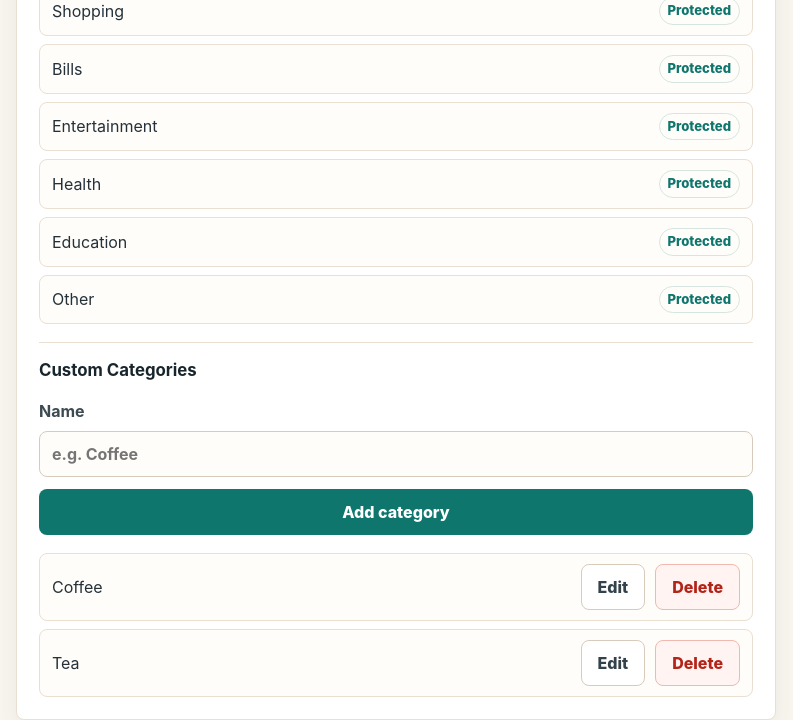
Test case: Home shell › maps duplicate custom category rename feedback without closing edit mode
(page scrolled)
Click the button "Edit" in the row of "Coffee". click: x=613, y=587
box: [580, 564, 645, 610]
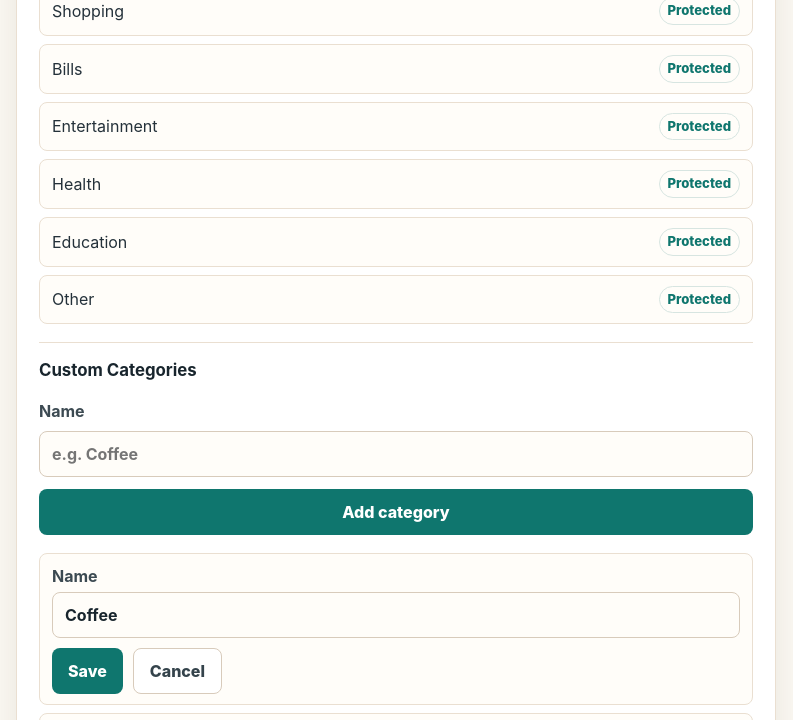
Replace the text in the 2nd field showing "Coffee" with "Tea". click: x=396, y=615
box: [52, 592, 740, 638]
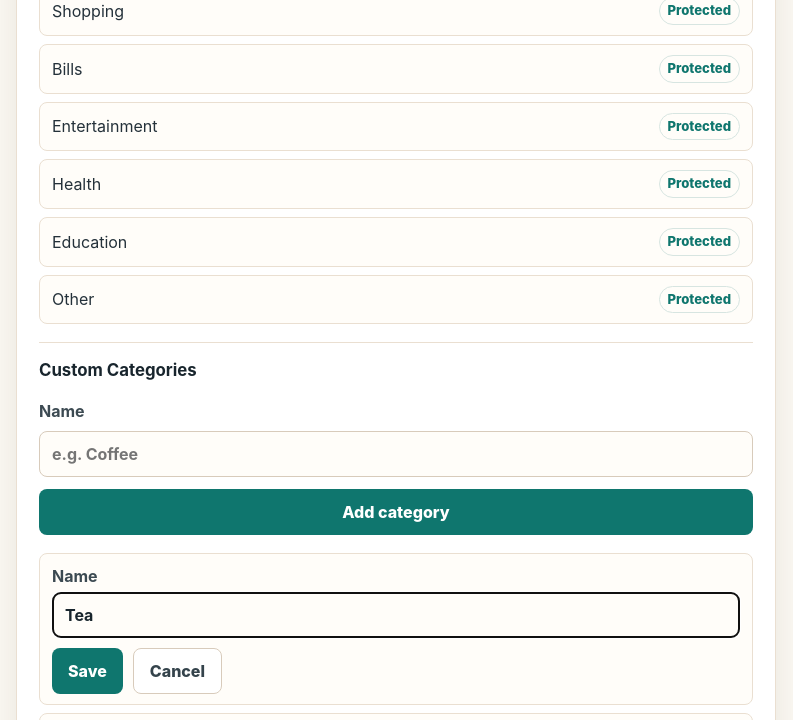
Click the button "Save". click: x=87, y=671
box: [52, 648, 123, 694]
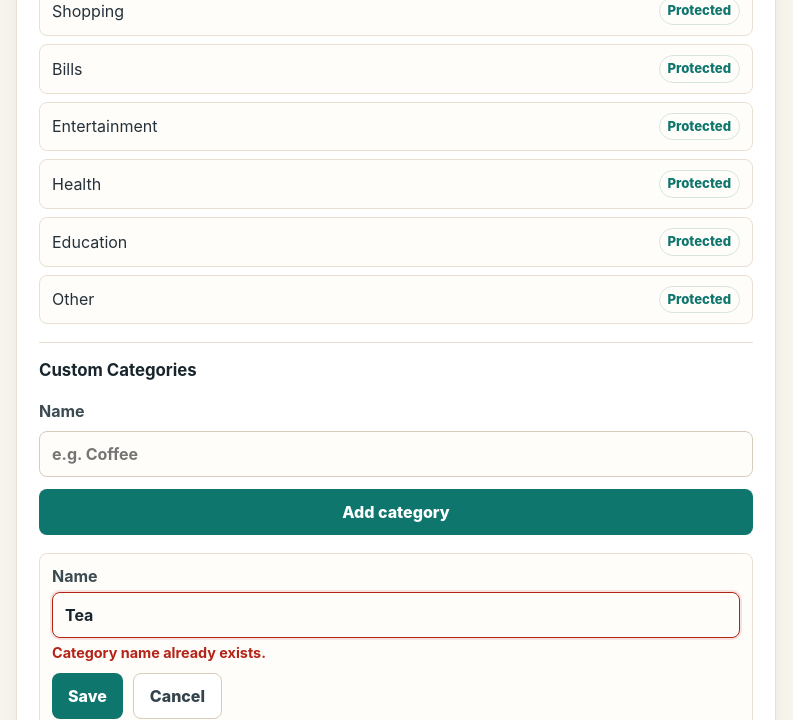
Expected: the text "Category name already exists." is shown, [52, 644, 266, 661]
